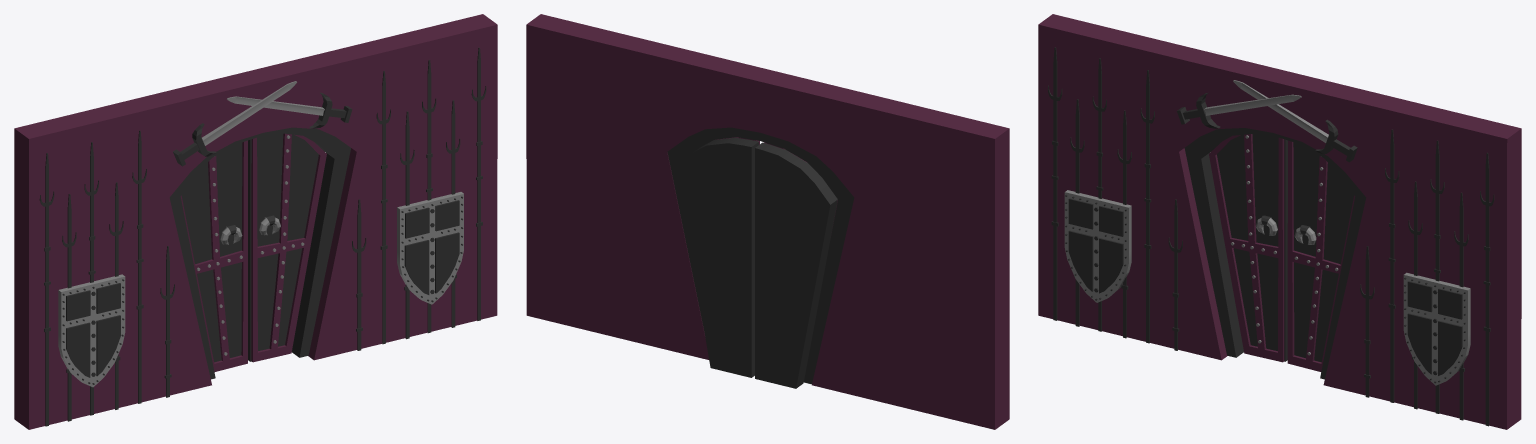
Rendered from Doorway_3.fbx.
3 renders of one model, left to right at view 1: azimuth 30°, elevation 25°; view 2: azimuth 150°, elevation 25°; view 3: azimuth 330°, elevation 25°, orthographic.
Parts seen in each view (by area): view 1: Wall_2, Right_Door_2, Left_Door_2; view 2: Wall_2, Left_Door_2, Right_Door_2; view 3: Wall_2, Left_Door_2, Right_Door_2.
Part boxes in pixels (left/top/right/bottom): Wall_2: left=14, top=14, right=497, bottom=429; Right_Door_2: left=248, top=133, right=326, bottom=362; Left_Door_2: left=180, top=140, right=247, bottom=371; Wall_2: left=526, top=14, right=1009, bottom=429; Left_Door_2: left=755, top=142, right=837, bottom=388; Right_Door_2: left=676, top=137, right=759, bottom=377; Wall_2: left=1038, top=14, right=1521, bottom=429; Left_Door_2: left=1209, top=133, right=1287, bottom=362; Right_Door_2: left=1287, top=140, right=1355, bottom=371.
Size of the model in its own units: 12.06 by 7.17 by 1.22.
